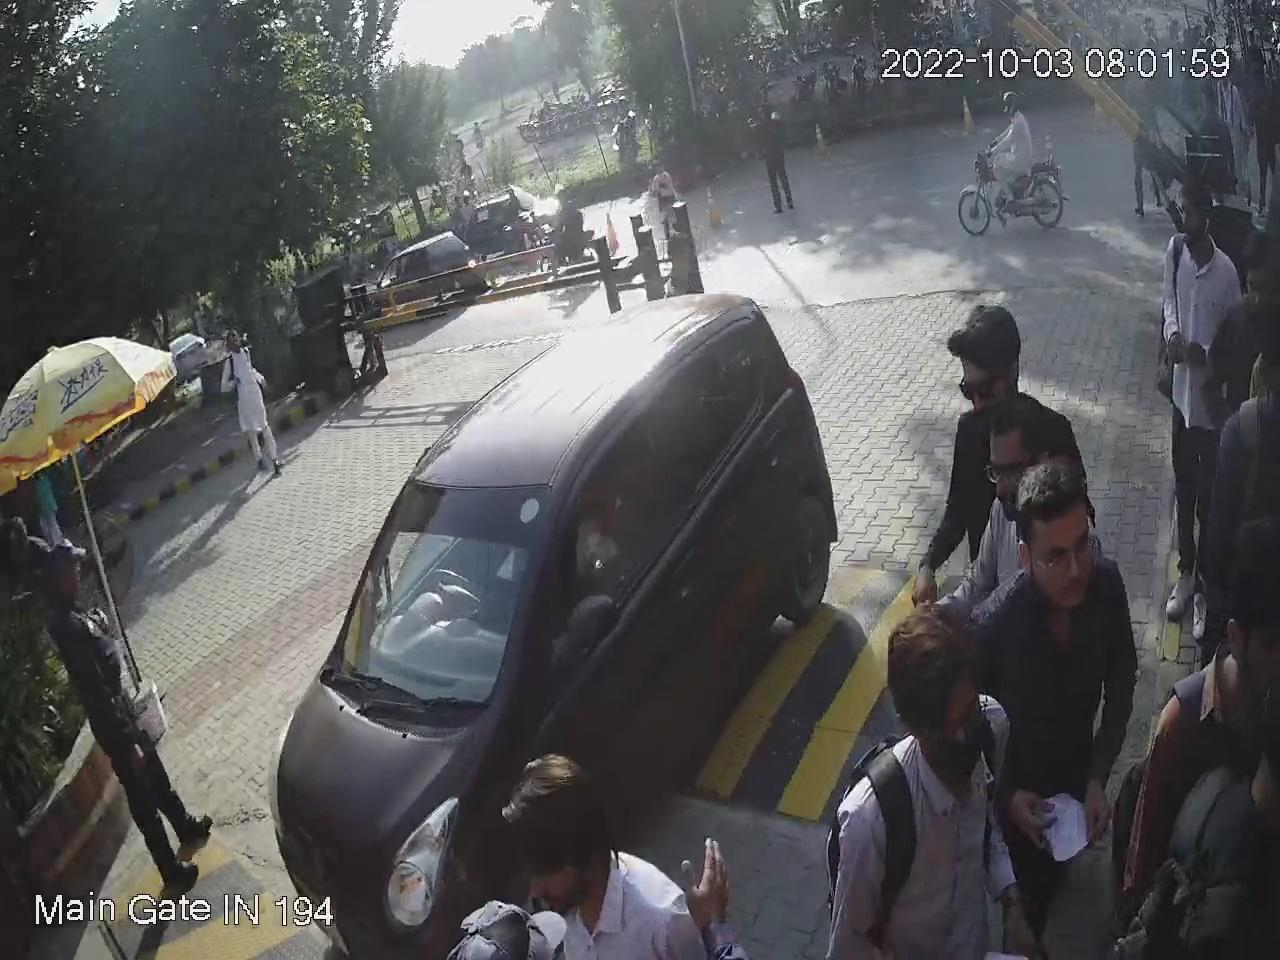windshield: (303, 465, 568, 752)
